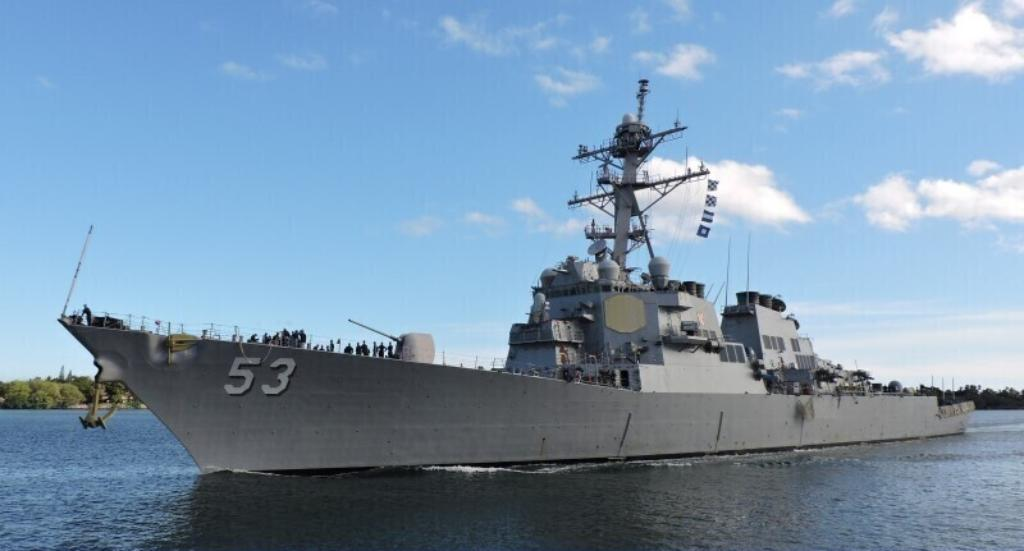Warship: (53, 73, 983, 481)
